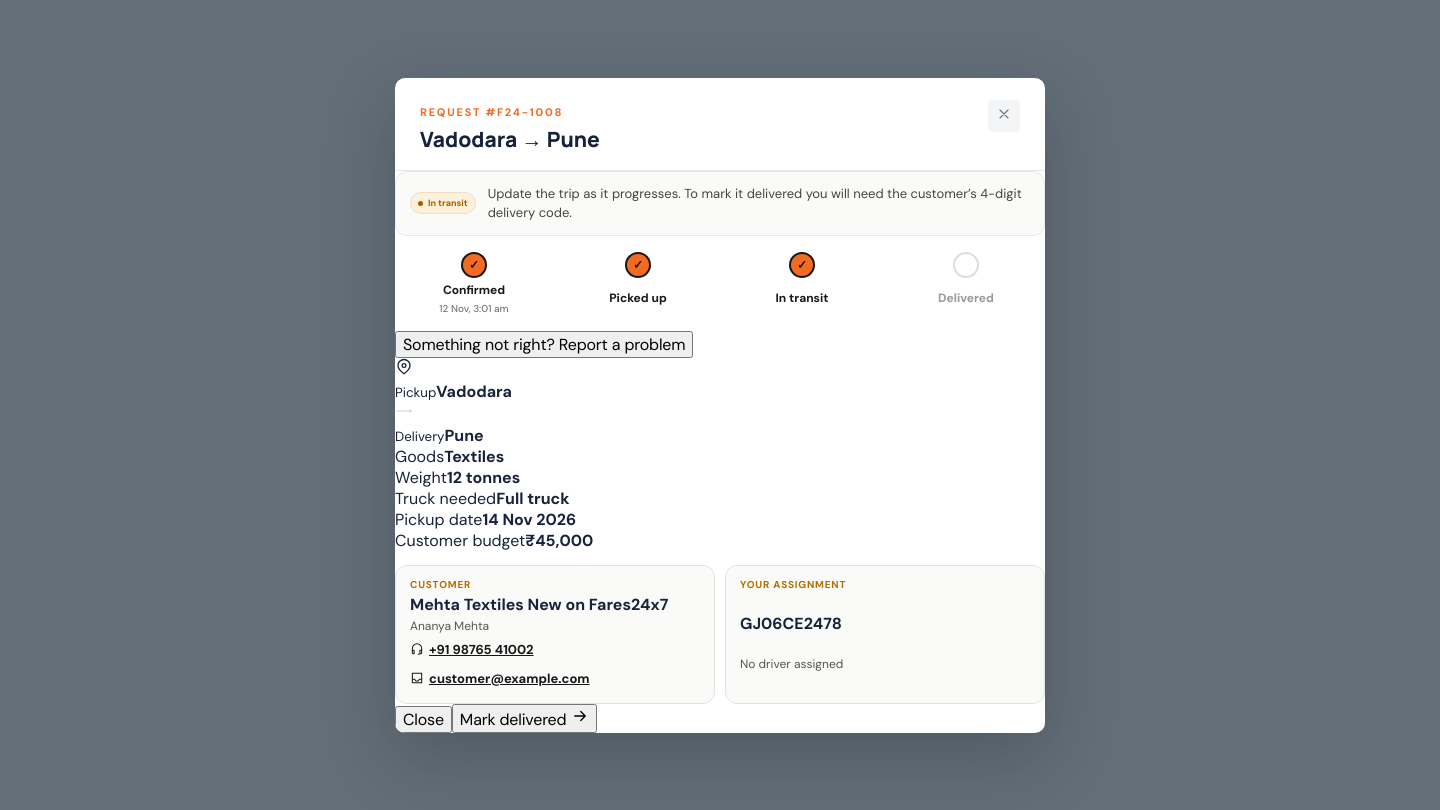
Test: 3 · Delivery needs the customer’s code › transporter must enter the 4-digit code to mark delivered
Later steps or results of the test are not shown.
Click the button "Mark delivered" at coordinates (524, 718), box [452,704,597,732]
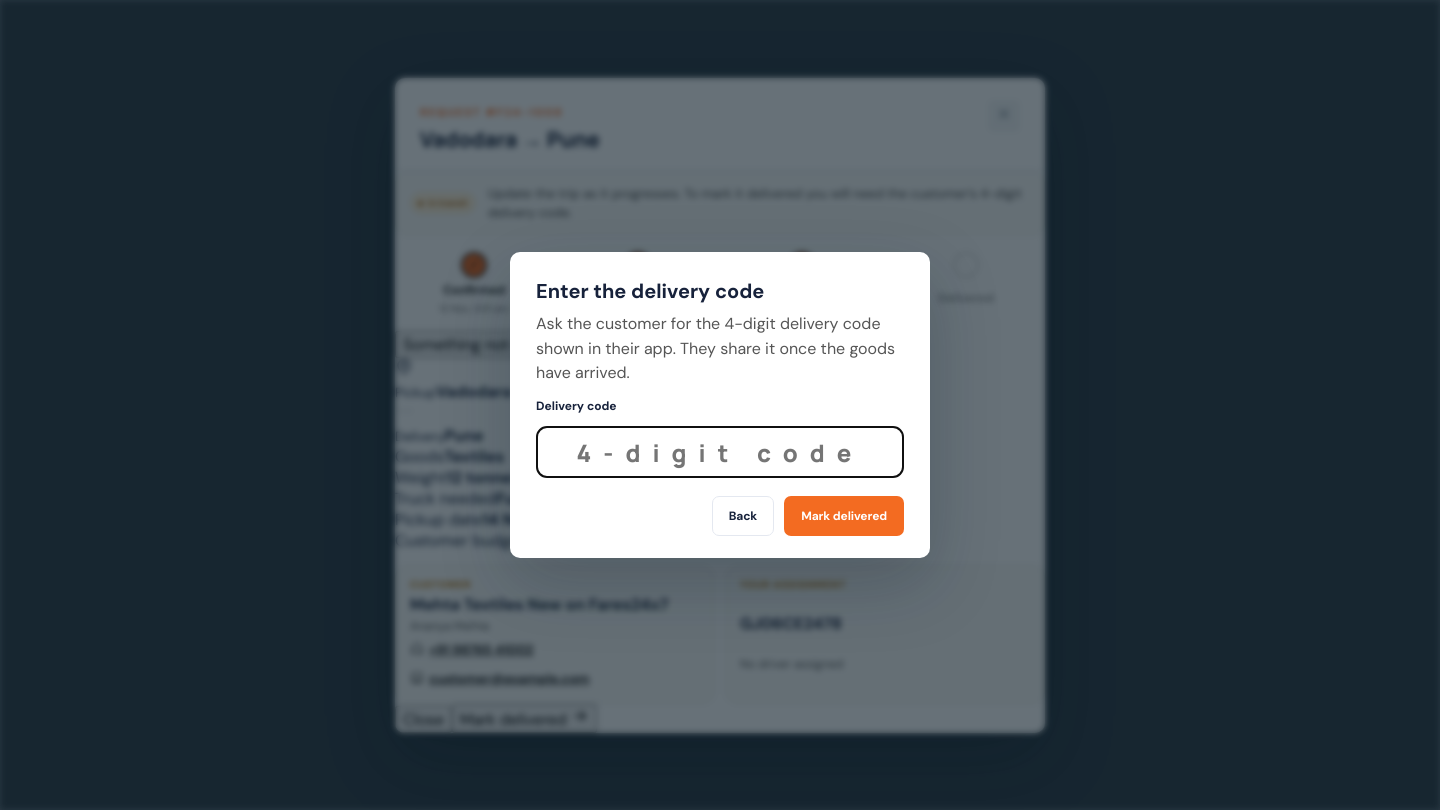
Expected: the button "Mark delivered" is disabled, [784,496,904,536]
Type "48a21" into the field with placeholder "4-digit code" at coordinates (720, 452), box [536,426,904,478]
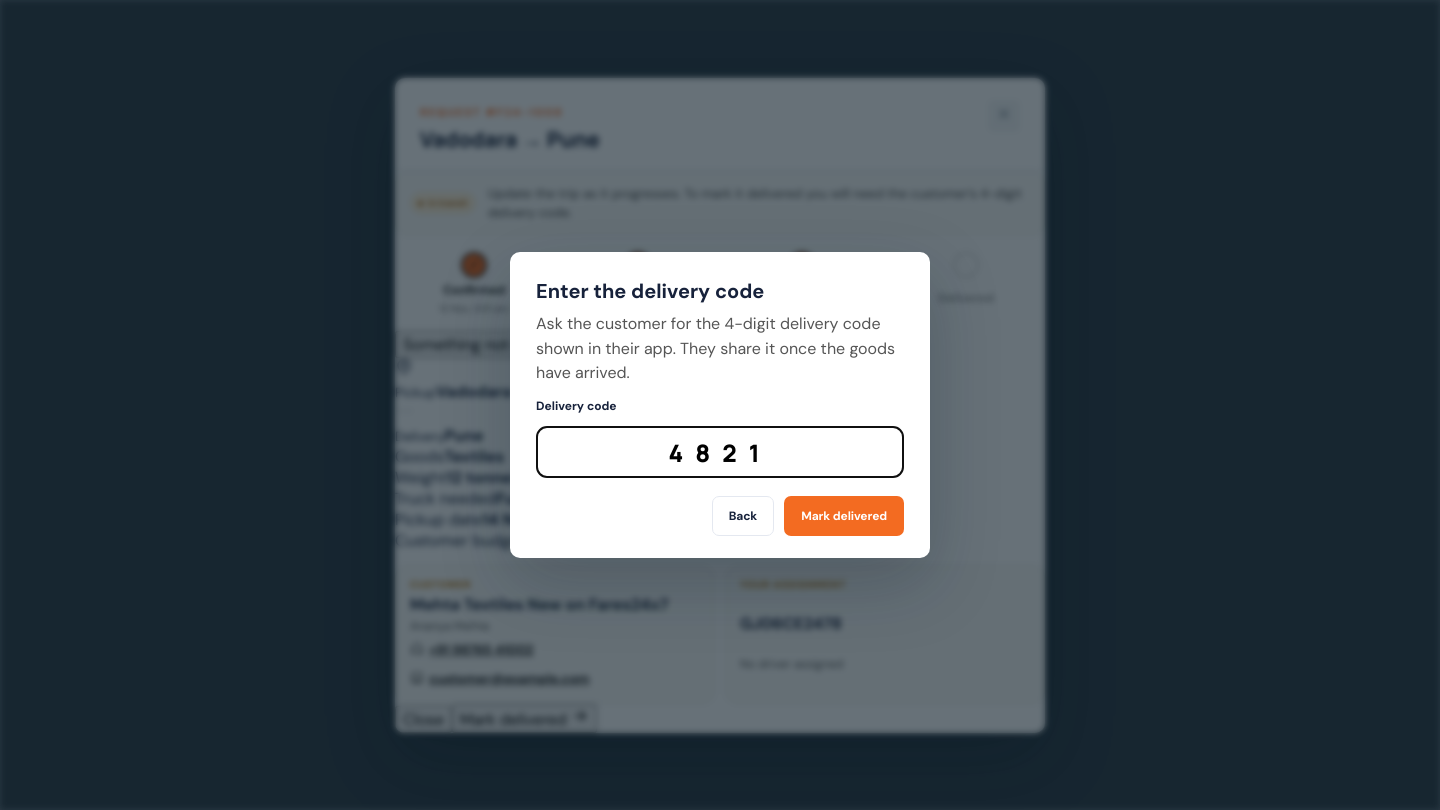
Expected: the field with placeholder "4-digit code" holds "4821", [536,426,904,478]
